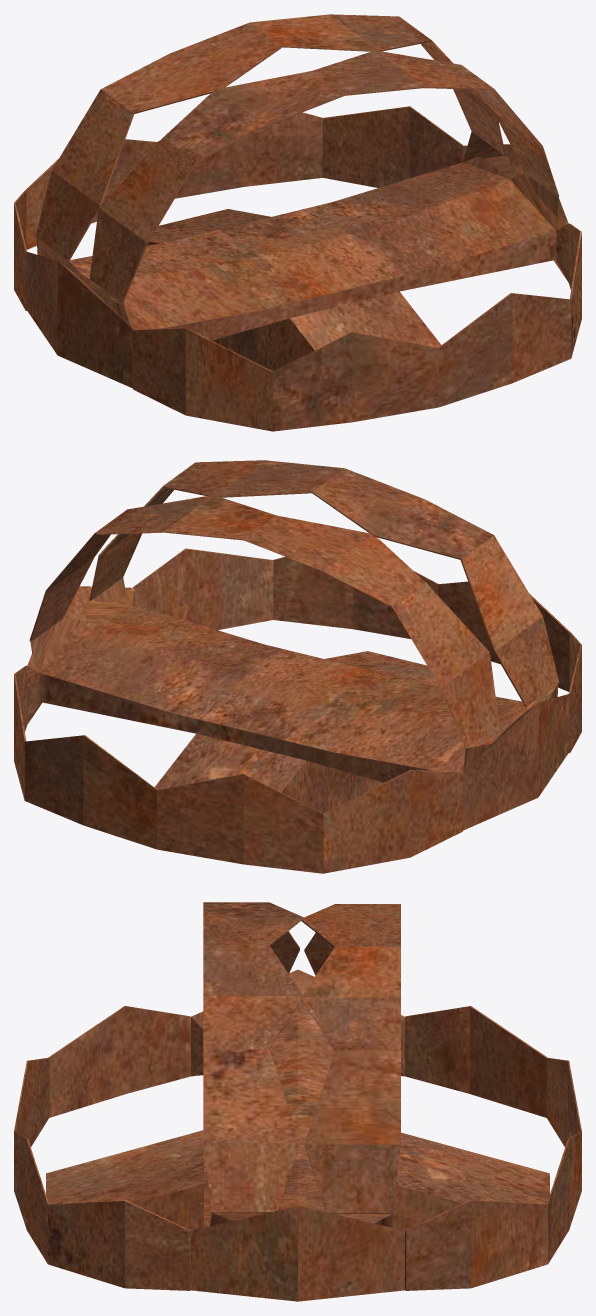
The model's file is BareTrap.fbx.
The picture shows the model from 3 angles, top to bottom: view 1: azimuth 30°, elevation 25°; view 2: azimuth 150°, elevation 25°; view 3: azimuth 270°, elevation 25°; orthographic projection.
Parts seen in each view (by area): view 1: Open, Base, Closed; view 2: Open, Base, Closed; view 3: Open, Closed, Base.
Part boxes in pixels (x1,y1,x2,y2): Open: (14, 106, 581, 431); Base: (69, 162, 556, 371); Closed: (35, 14, 559, 325); Open: (14, 548, 581, 873); Base: (39, 604, 525, 813); Closed: (29, 460, 559, 770); Open: (14, 969, 581, 1301); Closed: (203, 902, 400, 1227); Base: (46, 1012, 549, 1230).
Bounding box in the file's own units: 595 × 356 × 604.
